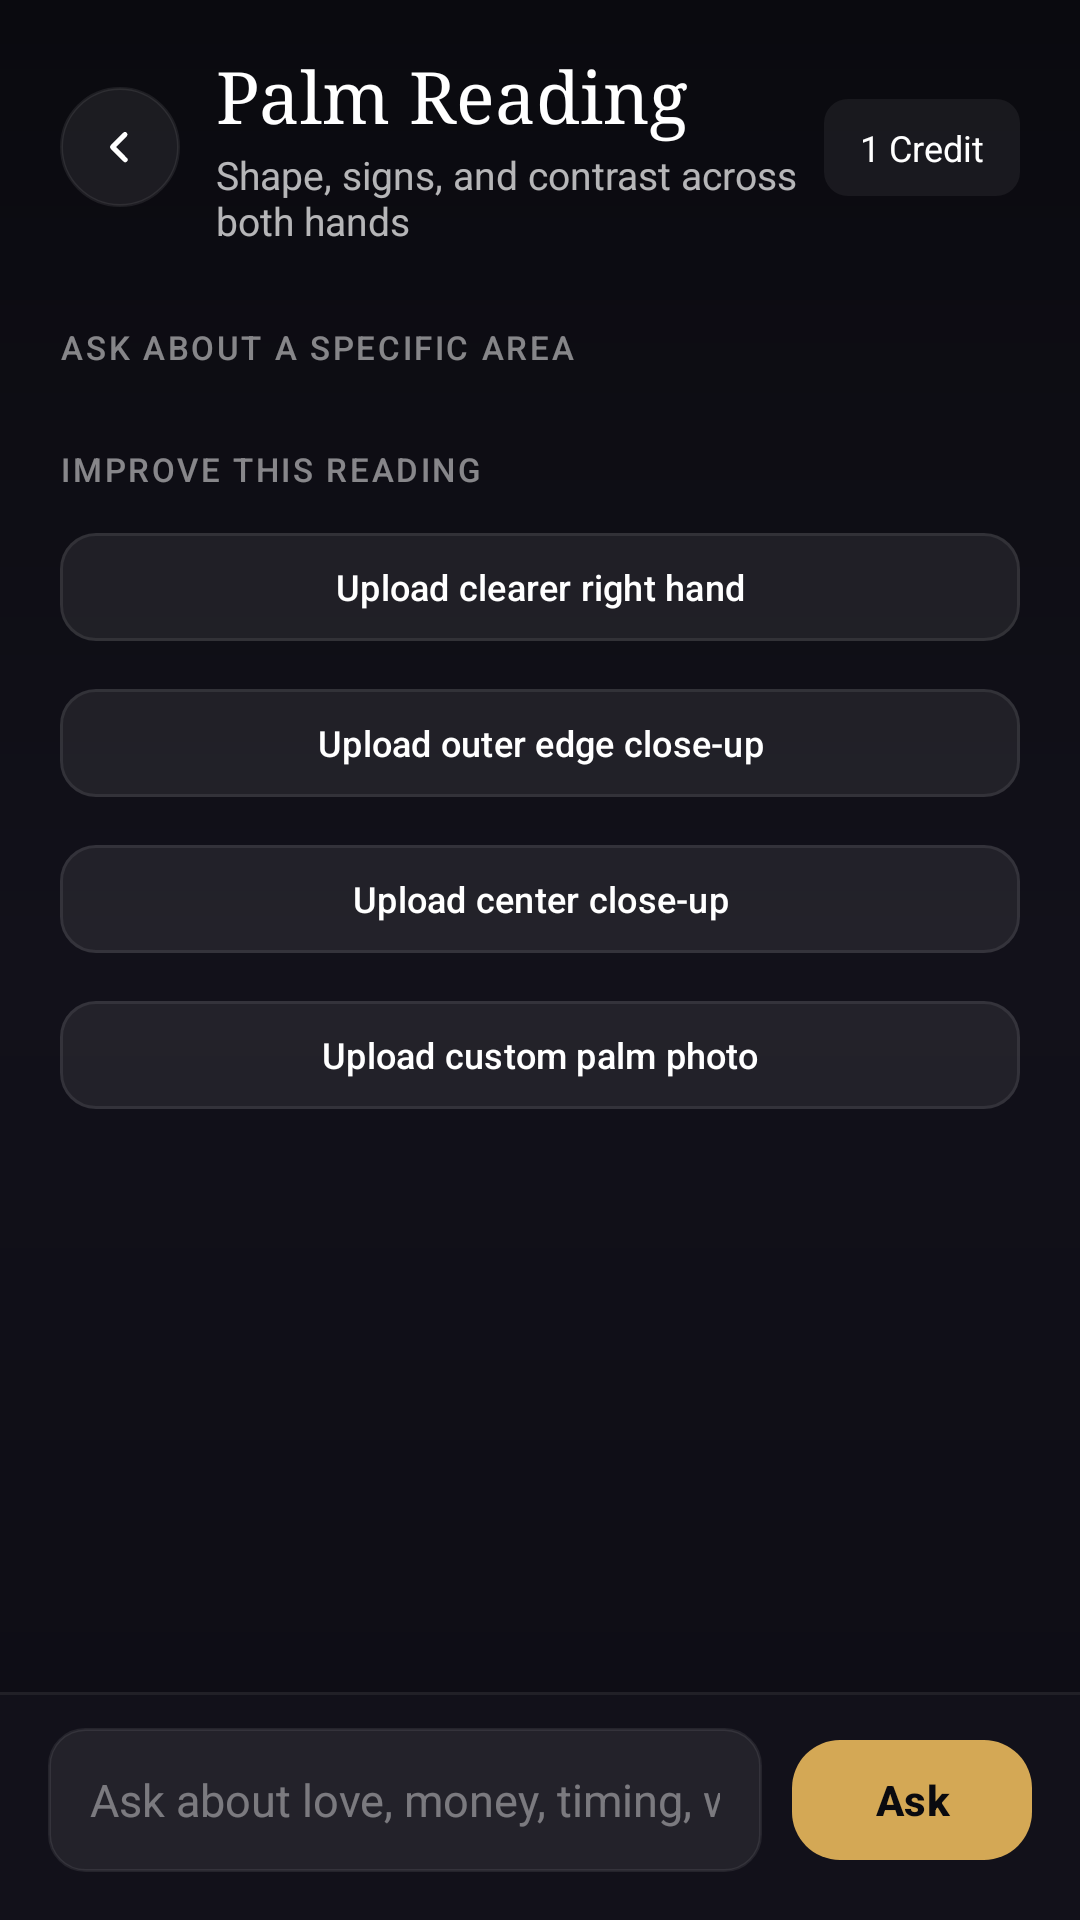

Screen size 1080px×1920px. Icon name, then its box in pixels as (x1, y1, x2, y2):
Go back: (60, 87, 180, 207)
